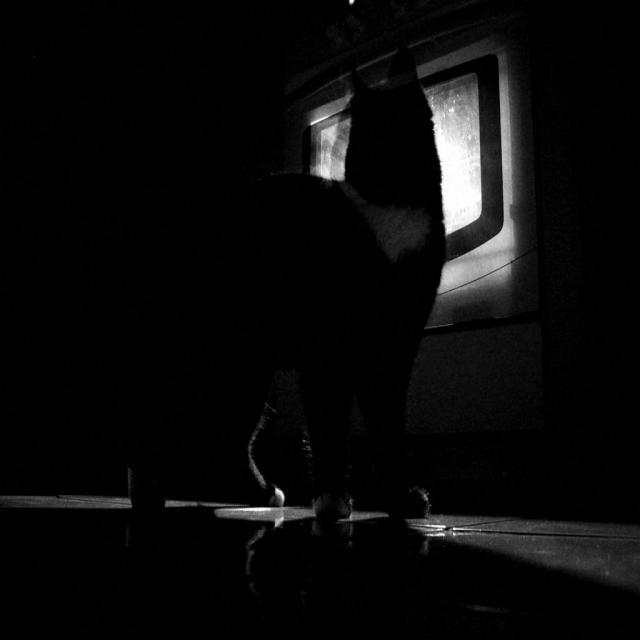Cat: (61, 0, 457, 578)
